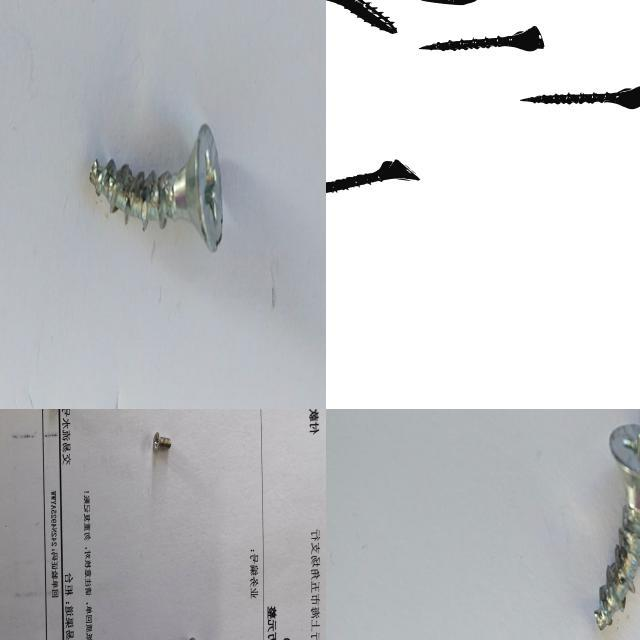Screw: (89, 123, 223, 251), (594, 423, 640, 630), (326, 160, 421, 194), (421, 26, 547, 51), (522, 87, 640, 109), (326, 0, 399, 33), (150, 430, 173, 456), (184, 634, 206, 640)
